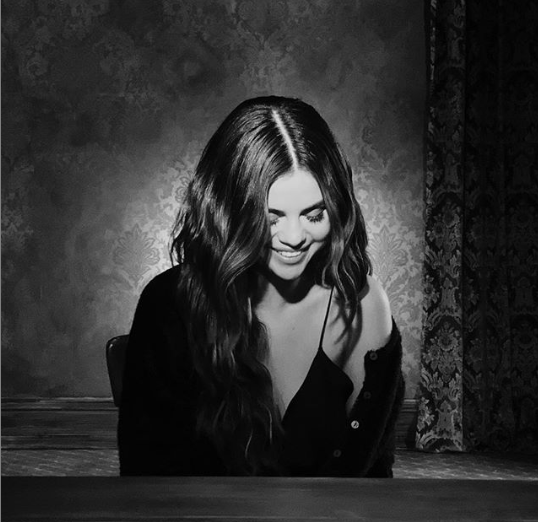GIRL: (227, 135, 344, 290)
